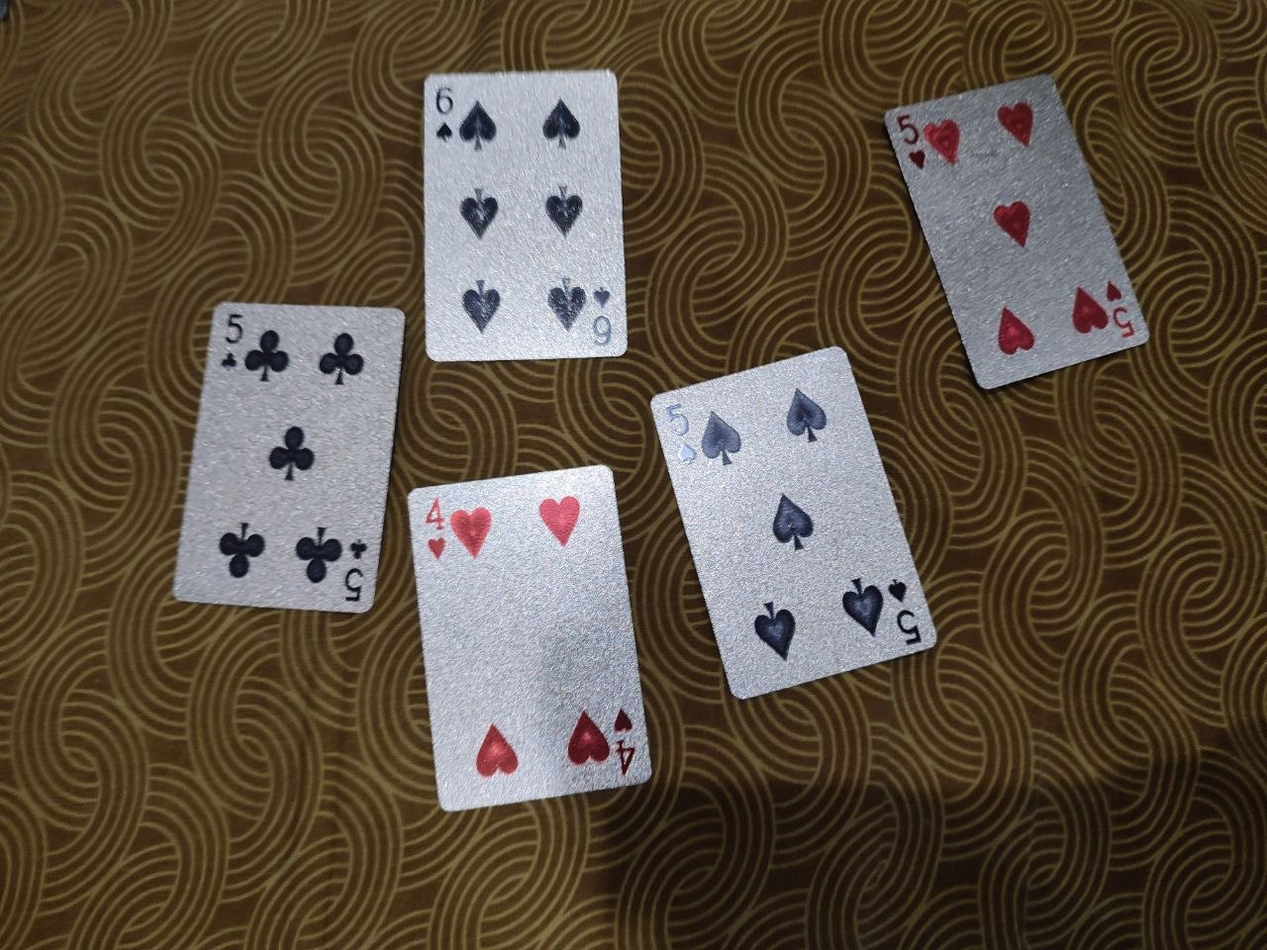4H: (407, 461, 658, 812)
5C: (173, 300, 405, 616)
5H: (884, 71, 1151, 391)
5S: (650, 343, 939, 698)
6S: (420, 68, 631, 361)
